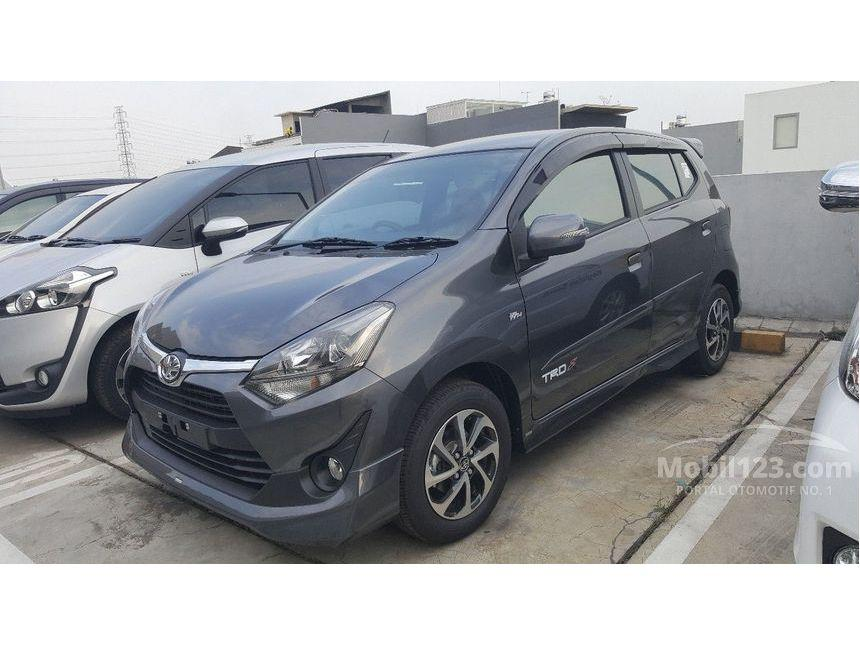mobil: (121, 143, 760, 537)
